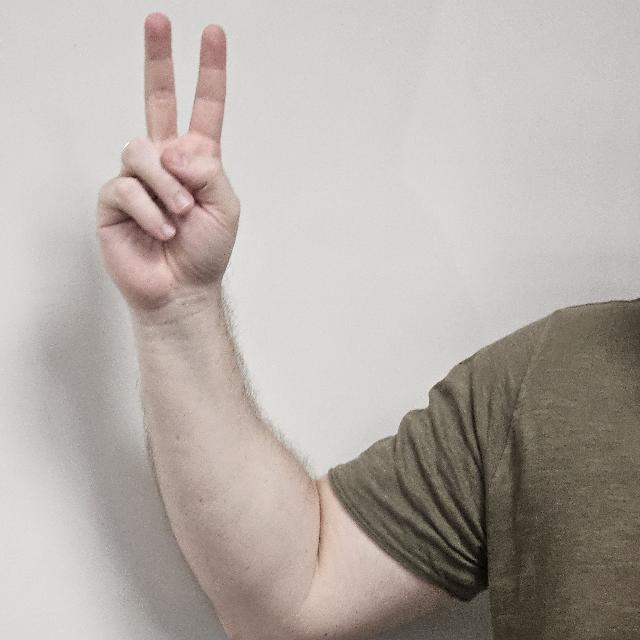Triangulo: (89, 4, 263, 360)
